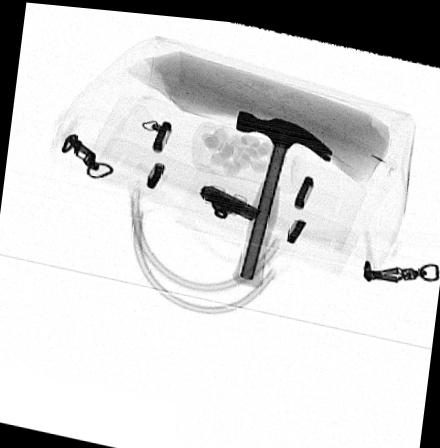Hammer: (232, 105, 332, 283)
